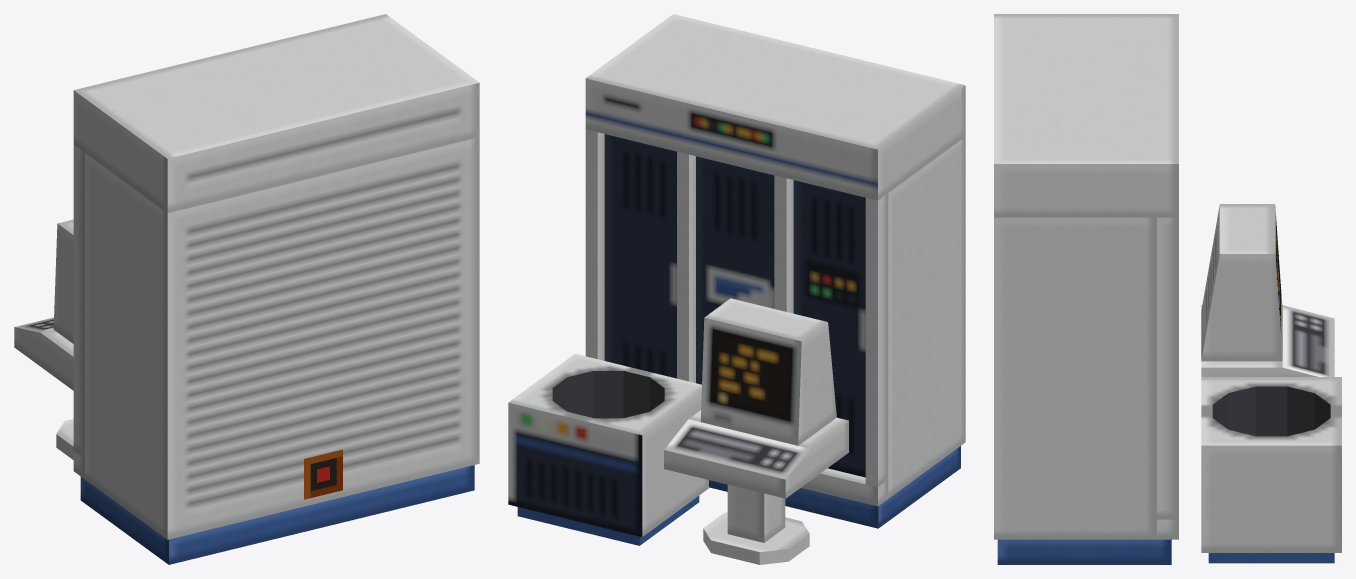
Rendered from era4_disk_mainframe_double_sided.obj.
The picture shows the model from 3 angles, left to right: view 1: azimuth 30°, elevation 25°; view 2: azimuth 150°, elevation 25°; view 3: azimuth 270°, elevation 25°; orthographic projection. The views are drawn at different scales.
Parts seen in each view (by area): view 1: era4_disk_mainframe; view 2: era4_disk_mainframe; view 3: era4_disk_mainframe.
Part boxes in pixels (x1,y1,x2,y2): era4_disk_mainframe: [14, 14, 479, 564]; era4_disk_mainframe: [508, 14, 965, 564]; era4_disk_mainframe: [994, 14, 1341, 564].
Size of the model in its own units: 3 by 3.75 by 2.94.
